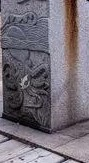Corrosion: (63, 1, 80, 125)
